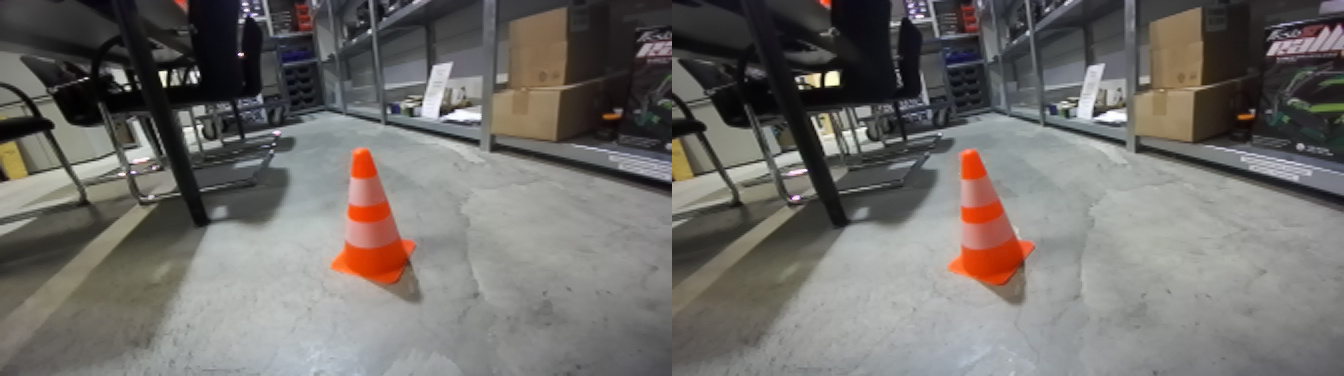cone: (331, 150, 422, 290), (955, 156, 1041, 292)
